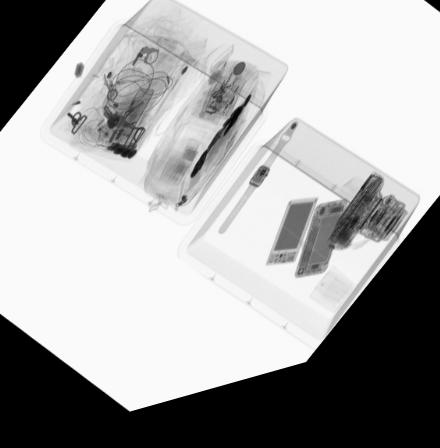Powerbank: (262, 213, 318, 282)
